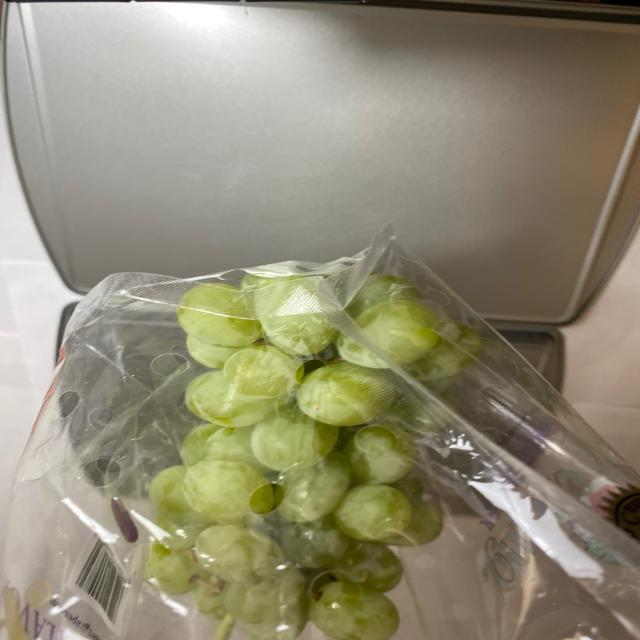grapes: (142, 294, 482, 635)
